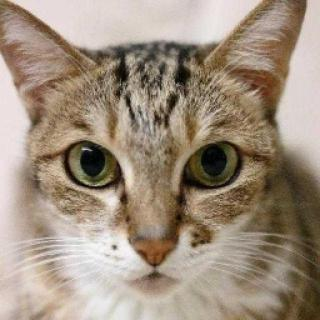cat: (0, 0, 309, 302)
nose: (124, 198, 185, 270)
